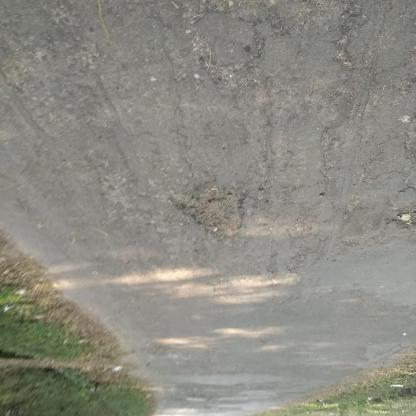pothole: (167, 180, 251, 247), (383, 204, 416, 233)
